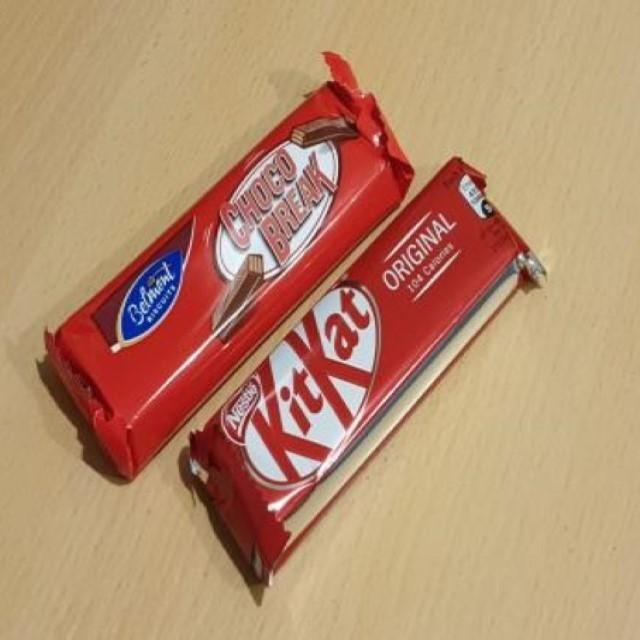kitkat_chocolate: (245, 205, 503, 588)
